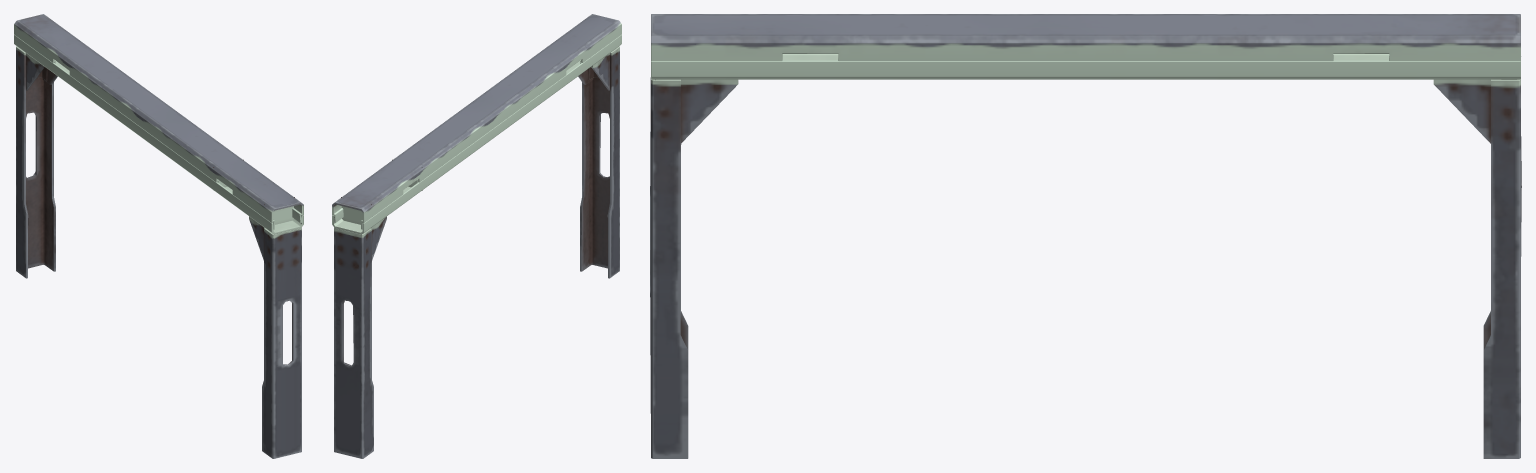
File: FenceFoundation_Metal_C.glb
3 renders of one model, left to right at view 1: azimuth 30°, elevation 25°; view 2: azimuth 150°, elevation 25°; view 3: azimuth 270°, elevation 25°, orthographic. The views are drawn at different scales.
Visible parts, largest first — view 1: SM_Metal_FenceFoundation; view 2: SM_Metal_FenceFoundation; view 3: SM_Metal_FenceFoundation.
Boxes of the visible parts, left/top/right/bottom form: SM_Metal_FenceFoundation: left=14, top=14, right=303, bottom=458; SM_Metal_FenceFoundation: left=332, top=14, right=621, bottom=458; SM_Metal_FenceFoundation: left=650, top=14, right=1521, bottom=458.
Bounding box in the file's own units: 0.2167 × 1.6 × 3.01.
Materials: 1 (1 with a texture image).
